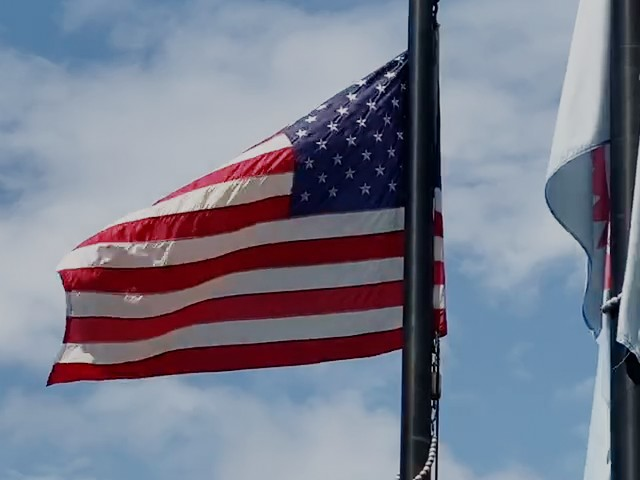America flag: (44, 46, 408, 389)
